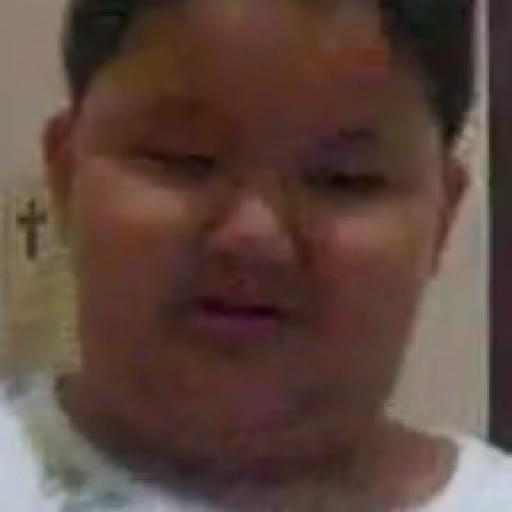Autism: (77, 0, 492, 468)
